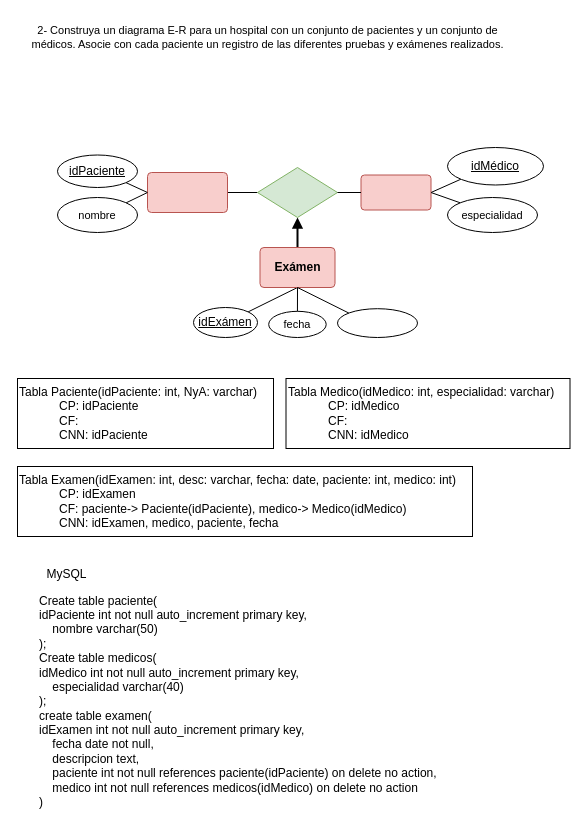
This 588x832 diagram has some shape labels left out. The centre of each missing label's shape, as x and y in pixels:
descripción: point (377, 323)
Médico: point (395, 192)
Paciente: point (187, 192)
tiene: point (297, 192)
